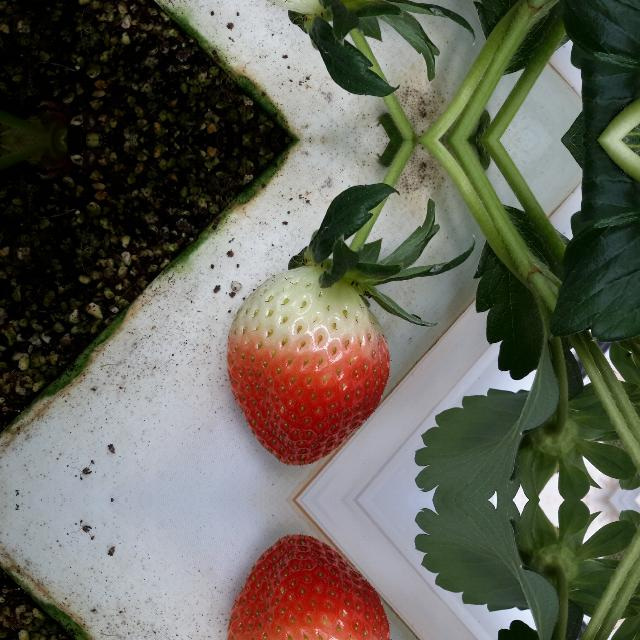Health_75: (226, 263, 392, 467), (226, 533, 391, 640)
